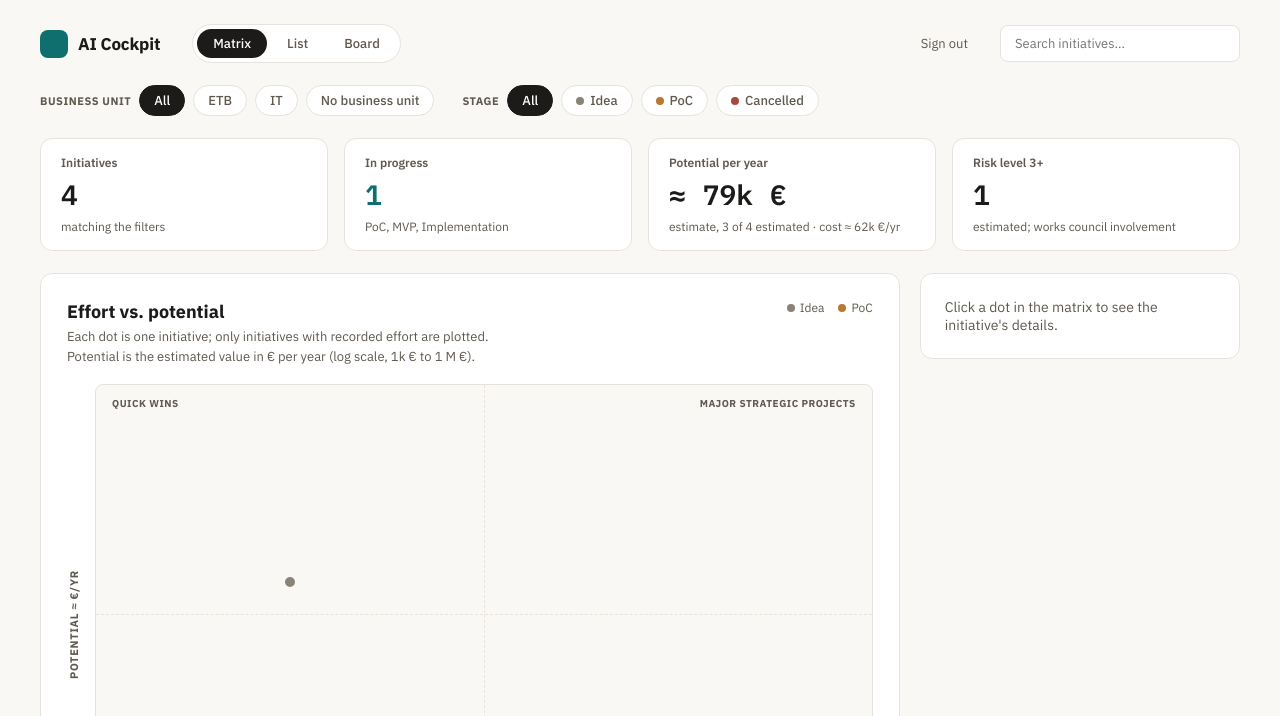
app › selecting a dot shows its details; missing owner is stated, not hidden
Step 1. Click the button named "Alpha, Idea" → click(290, 582), box left=283, top=575, right=297, bottom=589
(page scrolled)
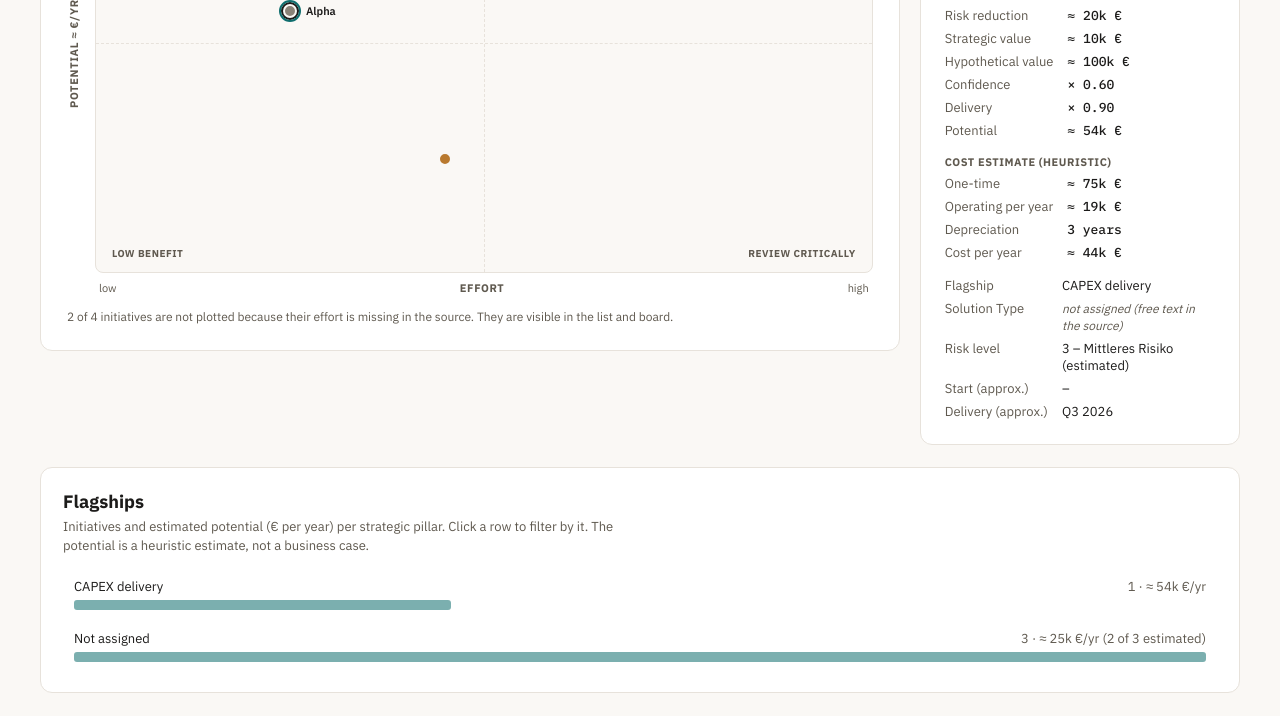
Expected: the text "CAPEX delivery" below "Cost per year" is shown, left=1062, top=276, right=1151, bottom=294
Expected: the text "Q3 2026" is shown, left=1062, top=402, right=1113, bottom=420
Expected: the text "3 – Mittleres Risiko (estimated)" is shown, left=1062, top=340, right=1173, bottom=374
